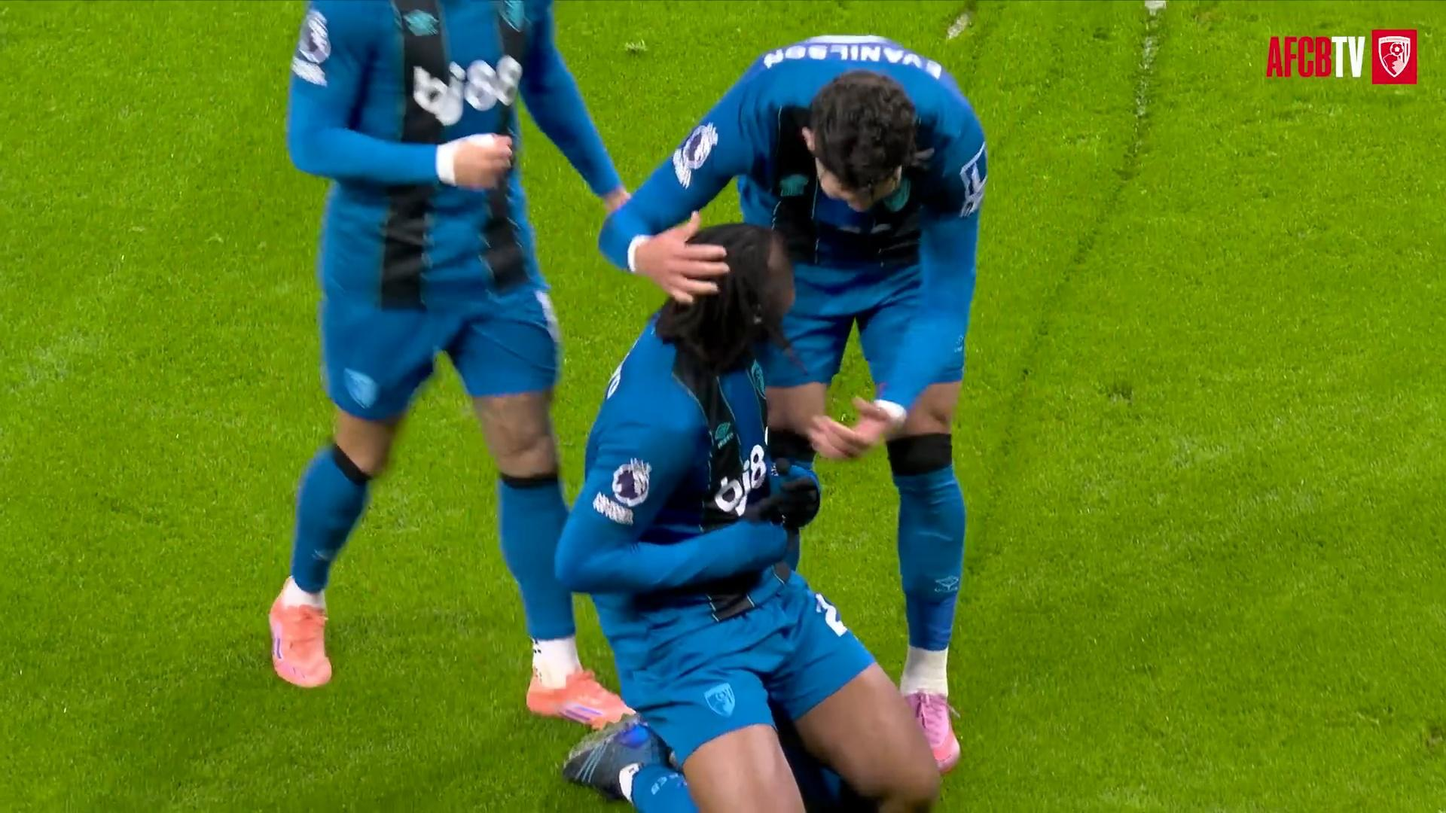player: (599, 36, 987, 771), (270, 0, 627, 726), (557, 224, 938, 812), (563, 717, 694, 812)
